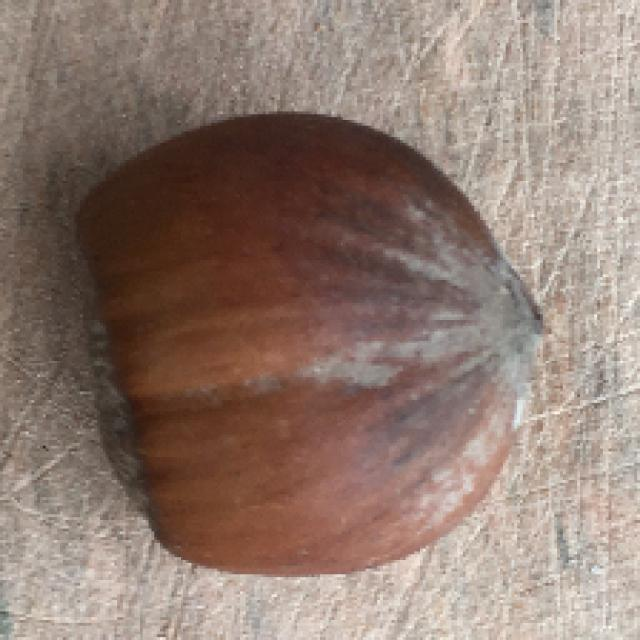DamagedHazelnut: (65, 112, 541, 574)
